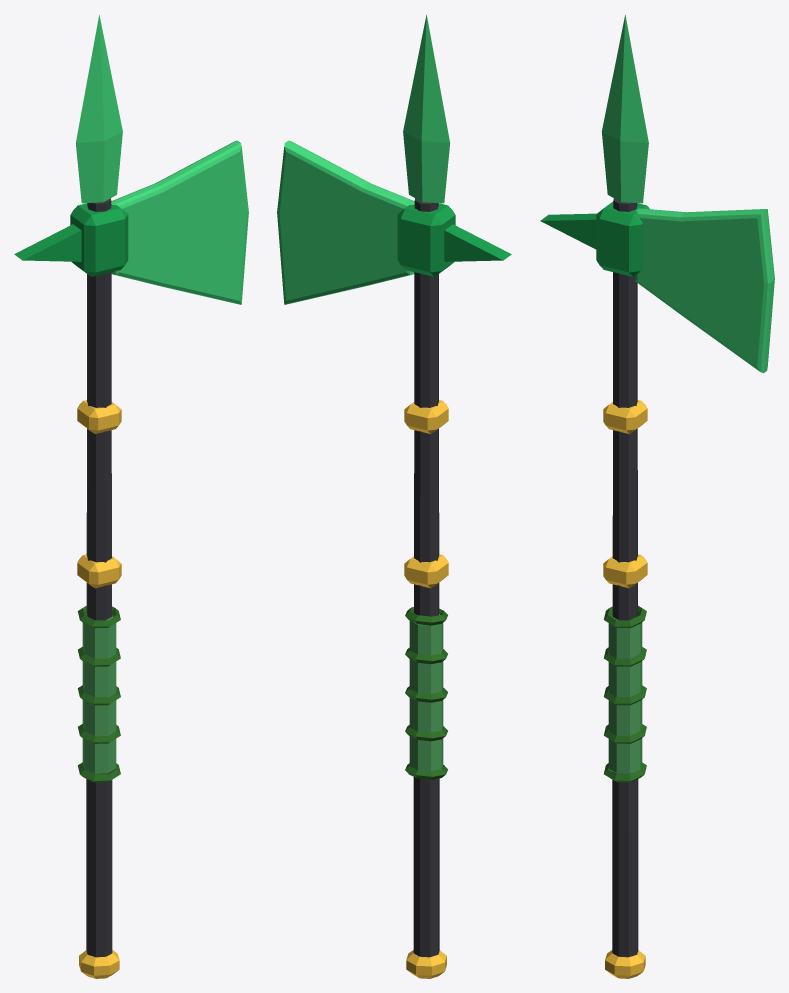
Rendered from EmeraldHalberd.fbx.
The picture shows the model from 3 angles, left to right: view 1: azimuth 30°, elevation 25°; view 2: azimuth 150°, elevation 25°; view 3: azimuth 330°, elevation 25°; orthographic projection.
Parts seen in each view (by area): view 1: EmeraldHalberd; view 2: EmeraldHalberd; view 3: EmeraldHalberd.
Boxes of the visible parts, x1=… form: EmeraldHalberd: x1=14, y1=15, x2=248, y2=978; EmeraldHalberd: x1=277, y1=15, x2=511, y2=978; EmeraldHalberd: x1=540, y1=15, x2=774, y2=978.
Size of the model in its own units: 1.55 by 6.22 by 0.2614.
Materials: 1 (1 with a texture image).
